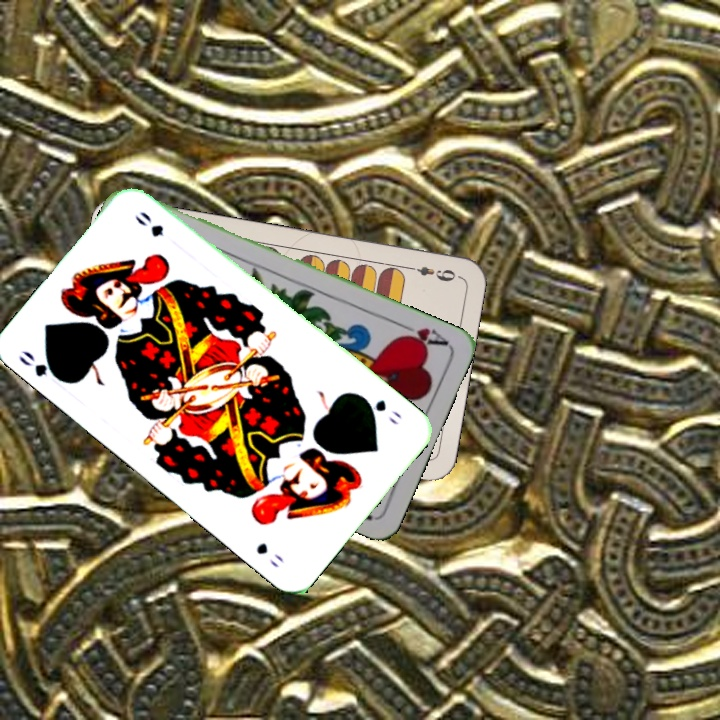E9: (402, 262, 458, 284)
GO: (14, 346, 69, 386), (357, 392, 404, 428)
HA: (393, 318, 451, 350)
